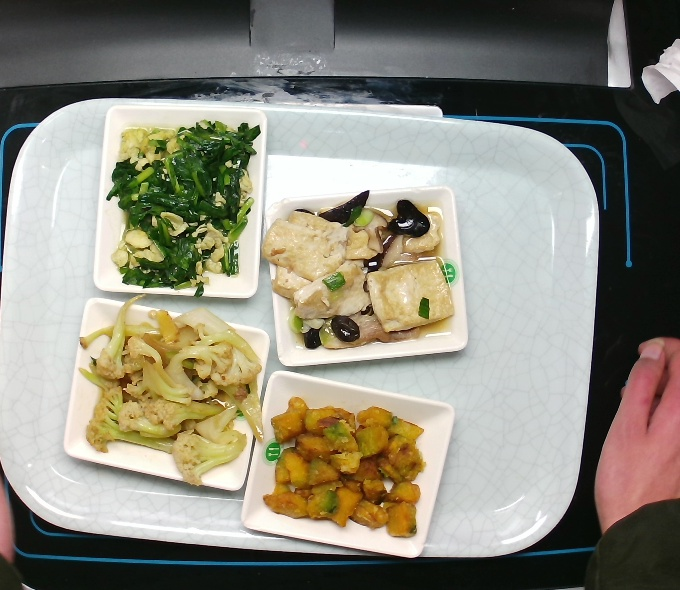wcq-DanHuangNanGua: (258, 394, 430, 541)
wcq-JiaChangDouFu: (259, 189, 458, 354)
wcq-JiuCaiJiDan: (107, 116, 264, 289)
wcq-QiuCai: (71, 301, 268, 489)
